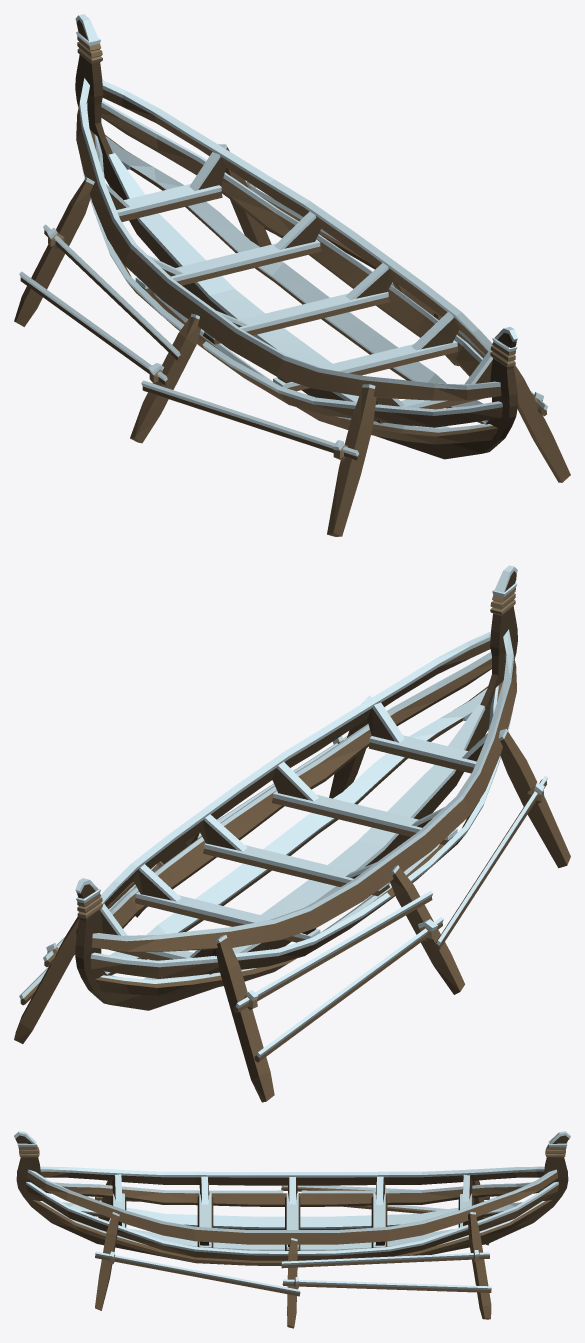
The model's file is Barco_Construccion.glb.
3 renders of one model, top to bottom at view 1: azimuth 30°, elevation 25°; view 2: azimuth 150°, elevation 25°; view 3: azimuth 270°, elevation 25°, orthographic. The views are drawn at different scales.
Visible parts, largest first — view 1: SM_Prop_Boat_Build_01_Snow; view 2: SM_Prop_Boat_Build_01_Snow; view 3: SM_Prop_Boat_Build_01_Snow.
Part boxes in pixels (x1,y1,x2,y2): SM_Prop_Boat_Build_01_Snow: (14,14,570,536); SM_Prop_Boat_Build_01_Snow: (14,565,570,1102); SM_Prop_Boat_Build_01_Snow: (14,1131,570,1328).
Bounding box in the file's own units: 3.95 × 2.7 × 9.07.
Materials: 1 (1 with a texture image).
